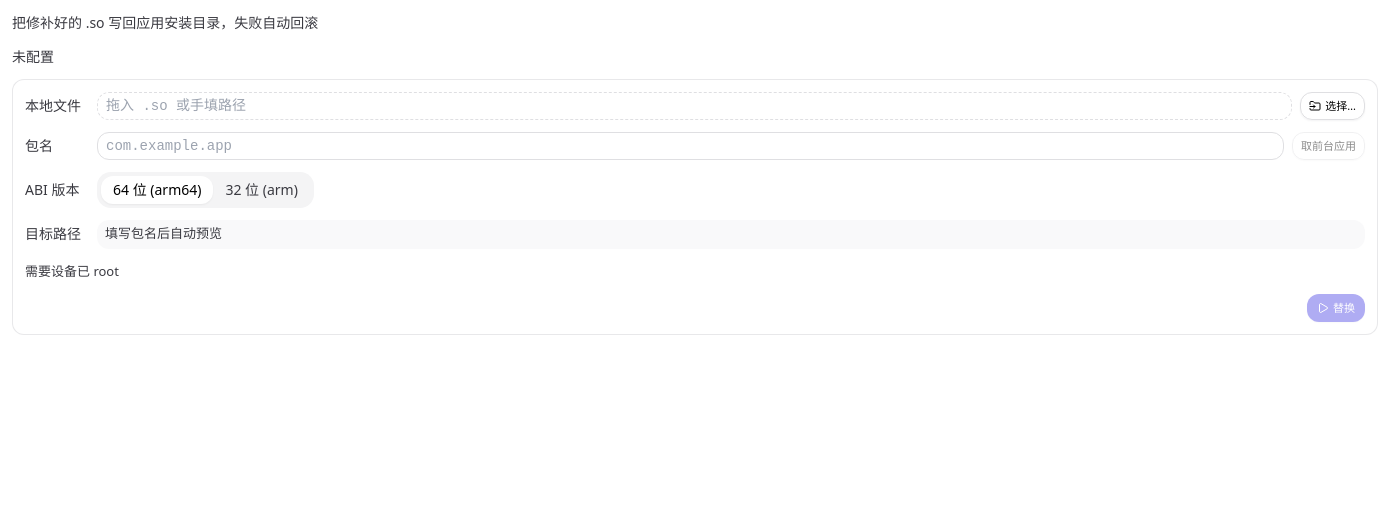
Test case: SO 替换页（AR8.4 typed 步骤链） › 按 wire 键名渲染目标路径与步骤链
The width and height of the screenshot is (1378, 526).
Type "/tmp/libfoo.so" into the field named "本地文件" at (695, 106), box [97,92,1292,120]
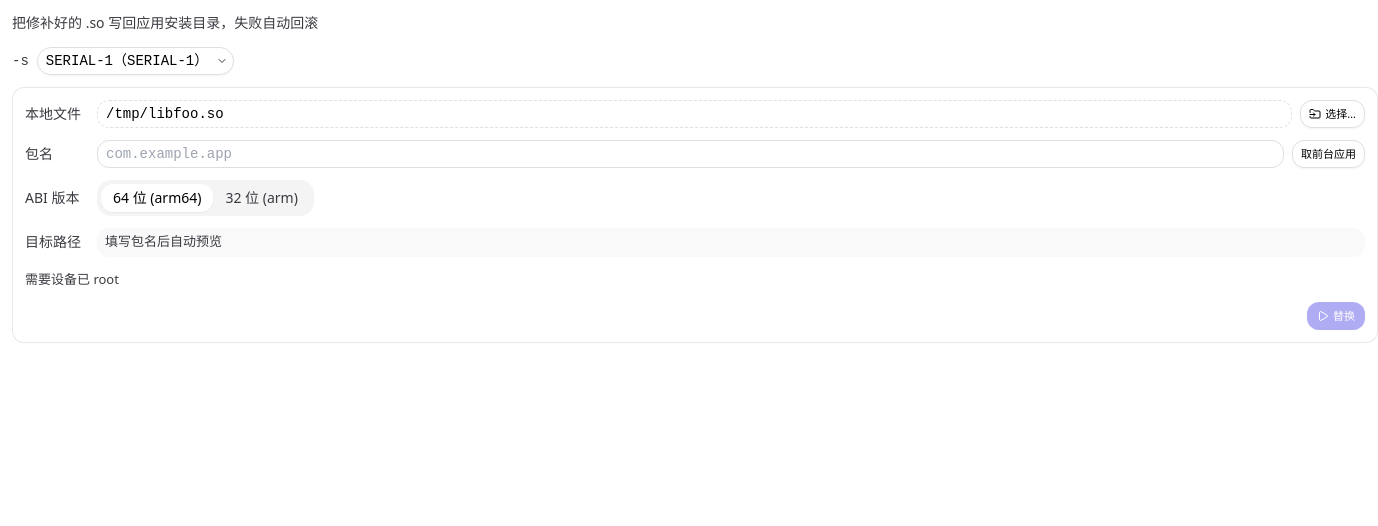
Type "com.x" into the field named "包名" at (690, 154), box [97,140,1284,168]
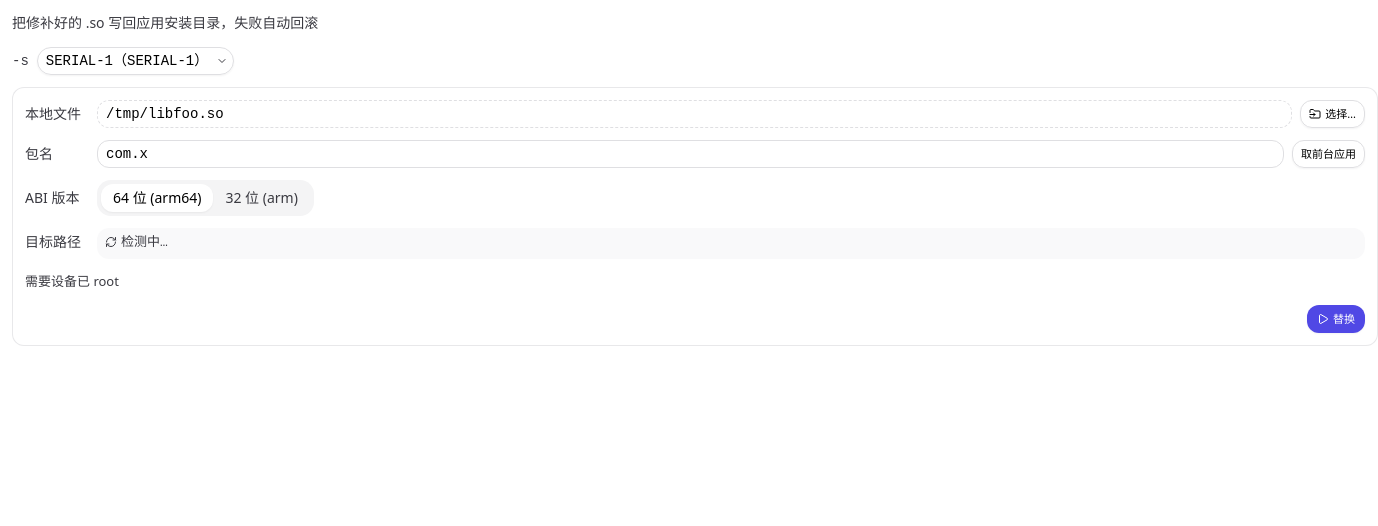
Check: the button with test id "so-replace-run" is enabled
Click the button with test id "so-replace-run" at (1336, 319), box [1307,305,1365,333]
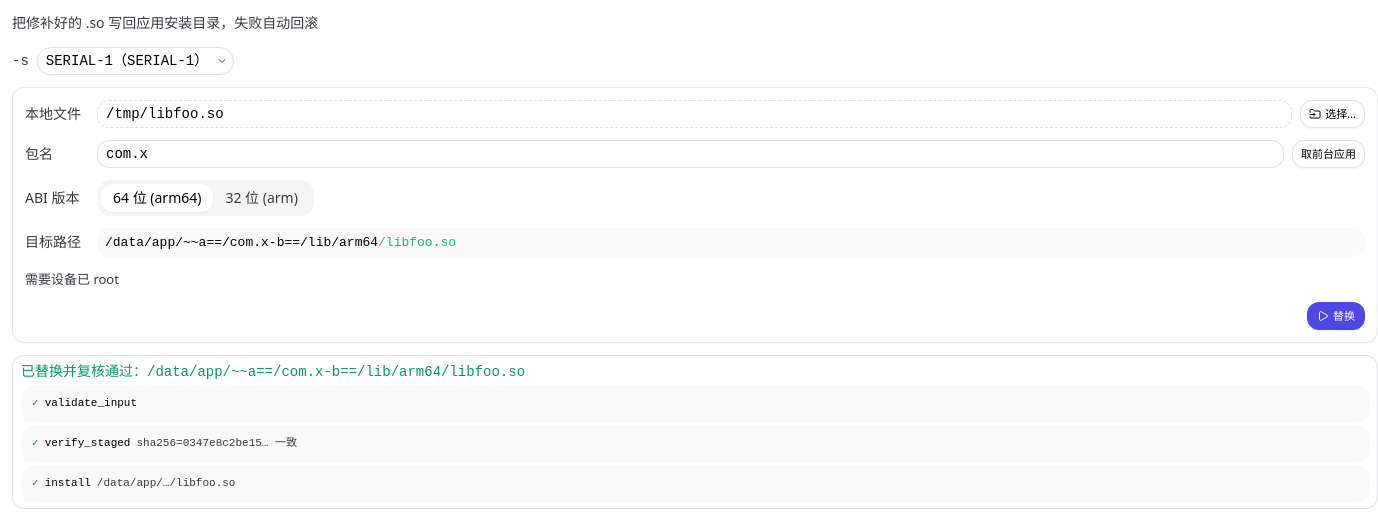
Check: the text "/data/app/~~a==/com.x-b==/lib/arm64/libfoo.so" is shown, box [105,235,456,250]
Check: the list item with test id "so-replace-step-verify_staged" is shown, box [21,426,1369,462]
Check: the text "sha256=0347e8c2be15" is shown, box [136,437,297,449]
